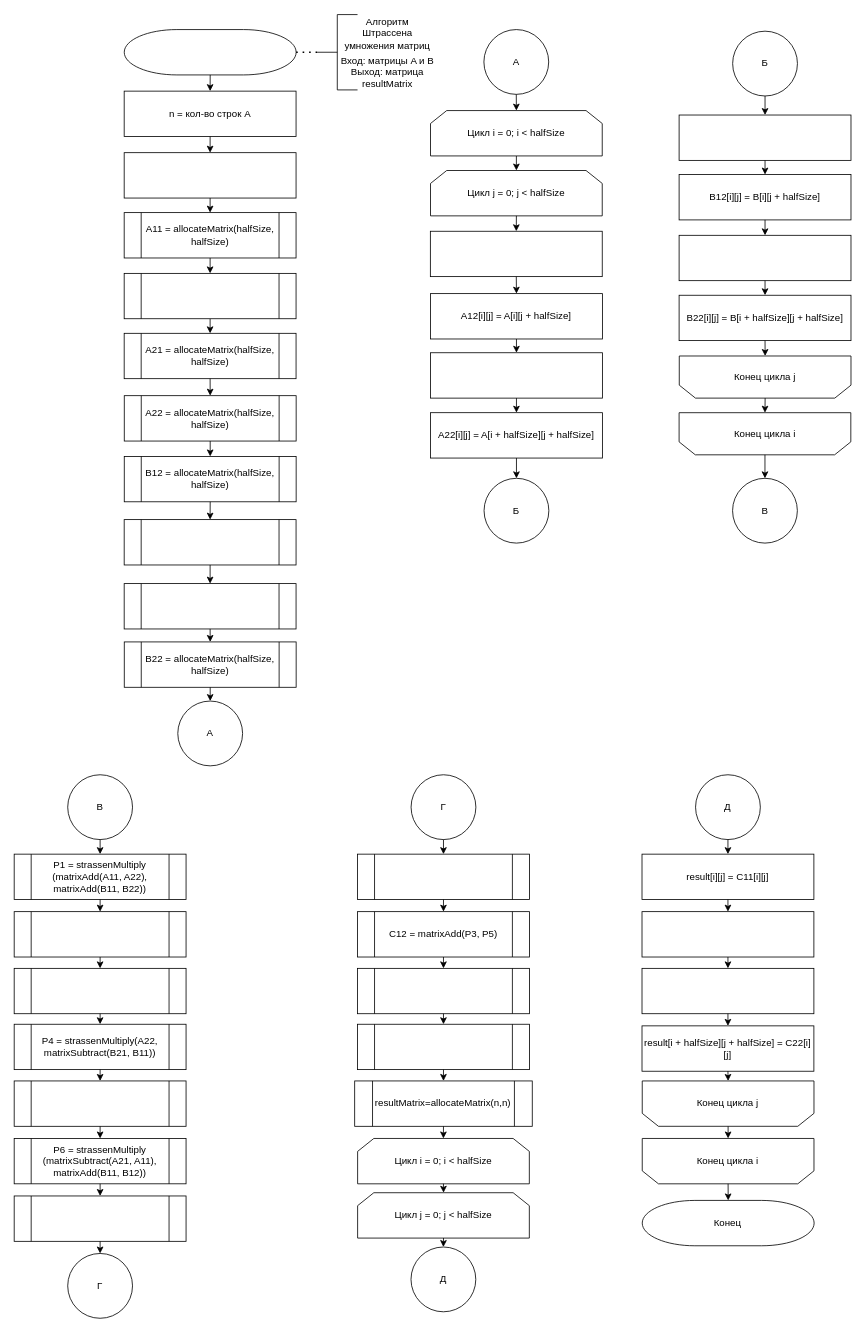
The diagram is 866 pixels wide and 1332 high, and some of its shapes have lost their labels. Here are the shapes that lost their labels. From the top down, the centre of each, then its label:
At point (209, 52): "Начало".
At point (764, 137): "B11[i][j] = B[i][j]".
At point (209, 175): "halfSize = n/2".
At point (516, 253): "A11[i][j] = A[i][j]".
At point (764, 257): "B21[i][j] = B[i + halfSize][j]".
At point (209, 296): "A12 = allocateMatrix(halfSize, halfSize)".
At point (516, 375): "A21[i][j] = A[i + halfSize][j]".
At point (209, 542): "B11 = allocateMatrix(halfSize, halfSize)".
At point (209, 606): "B21 = allocateMatrix(halfSize, halfSize)".
At point (443, 876): "C11 = matrixAdd (matrixSubtract(matrixAdd(P1, P4), P5), P7)".
At point (99, 934): "P2 = strassenMultiply (matrixAdd(A21, A22), B11)".
At point (727, 934): "result[i][j + halfSize] = C12[i][j]".
At point (99, 991): "P3 = strassenMultiply(A11, matrixSubtract(B12, B22))".
At point (443, 991): "C21 = matrixAdd(P2, P4)".
At point (727, 991): "result[i + halfSize][j] = C21[i][j]".
At point (443, 1046): "C22 = matrixAdd (matrixAdd(matrixSubtract(P1, P2), P3), P6)".
At point (99, 1103): "P5 = strassenMultiply (matrixAdd(A11, A12), B22)".
At point (99, 1218): "P7 = strassenMultiply (matrixSubtract(A12, A22), matrixAdd(B21, B22))".
